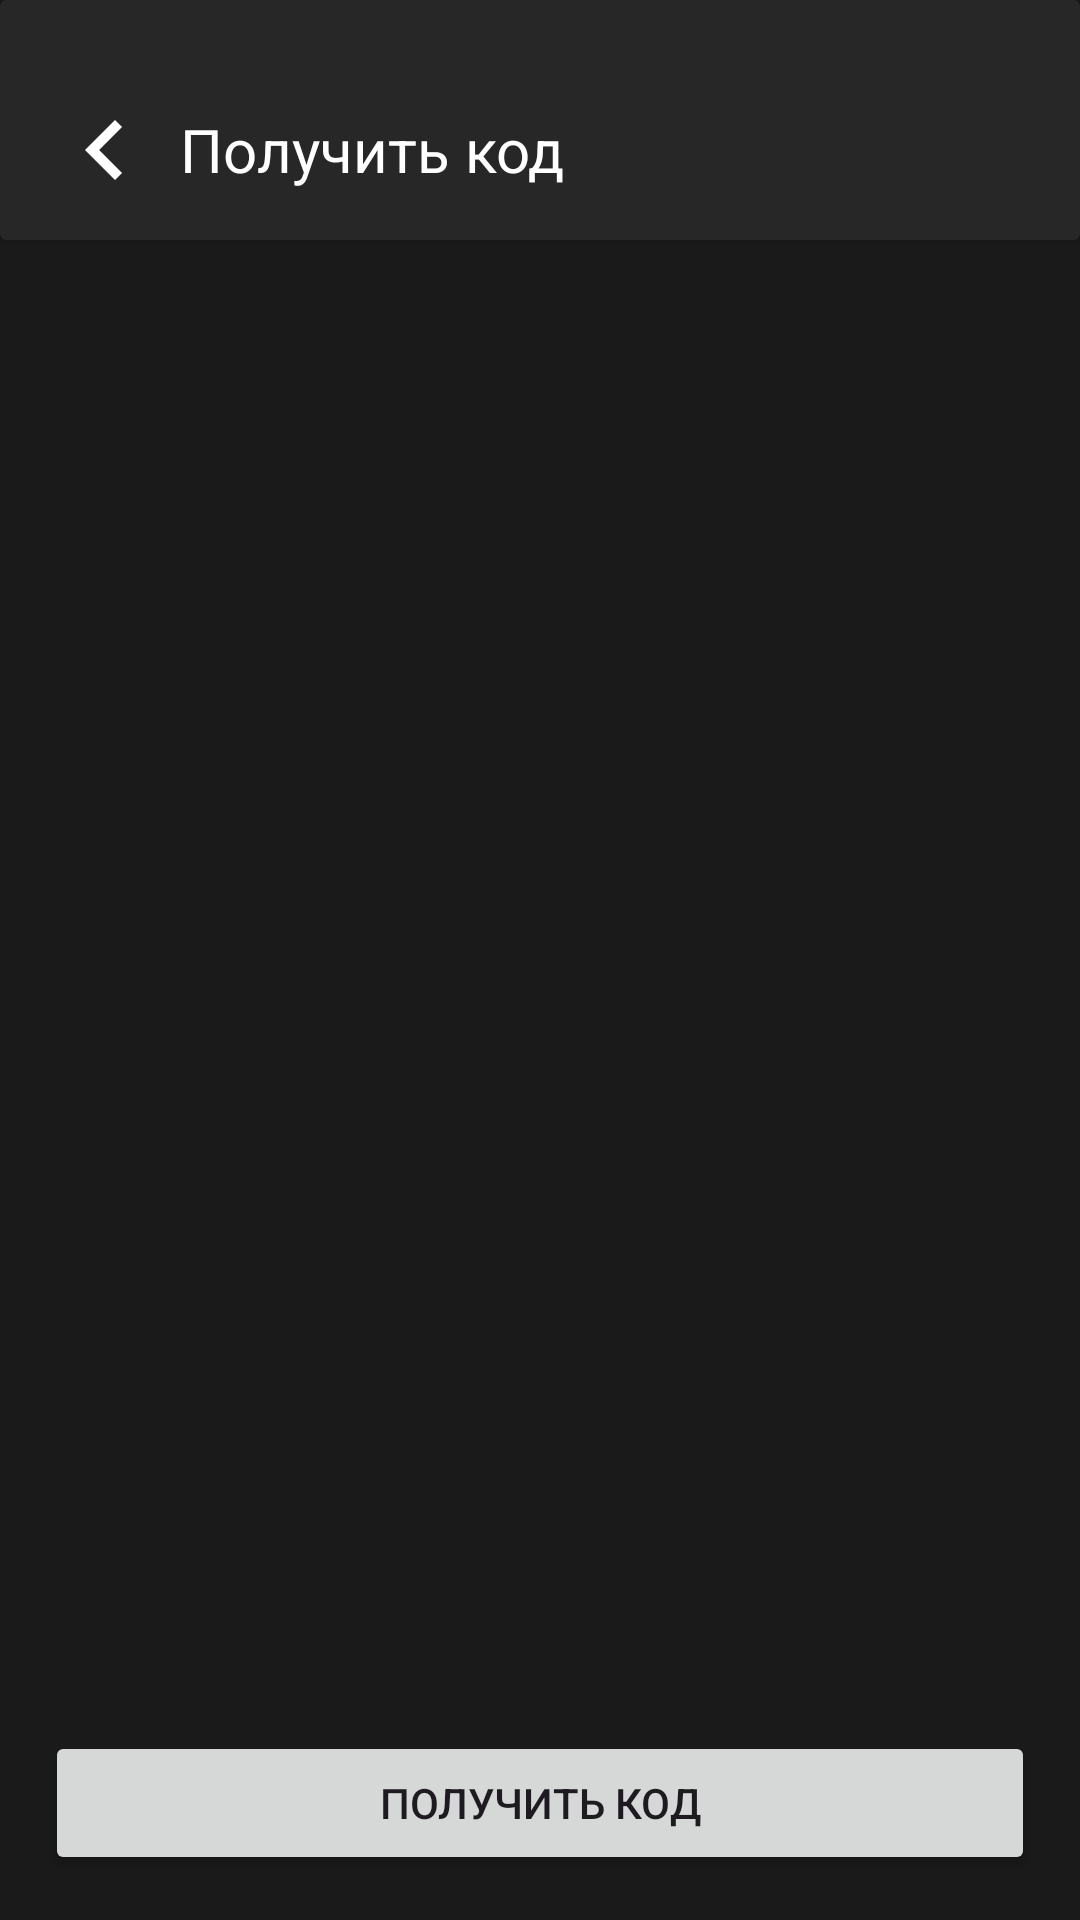

Named icons in this screenshot (1080 x 1920) and their bounding boxes, [x1=x1, y1=y1, x2=x2, y2=y2]:
back: [x1=85, y1=120, x2=122, y2=180]
